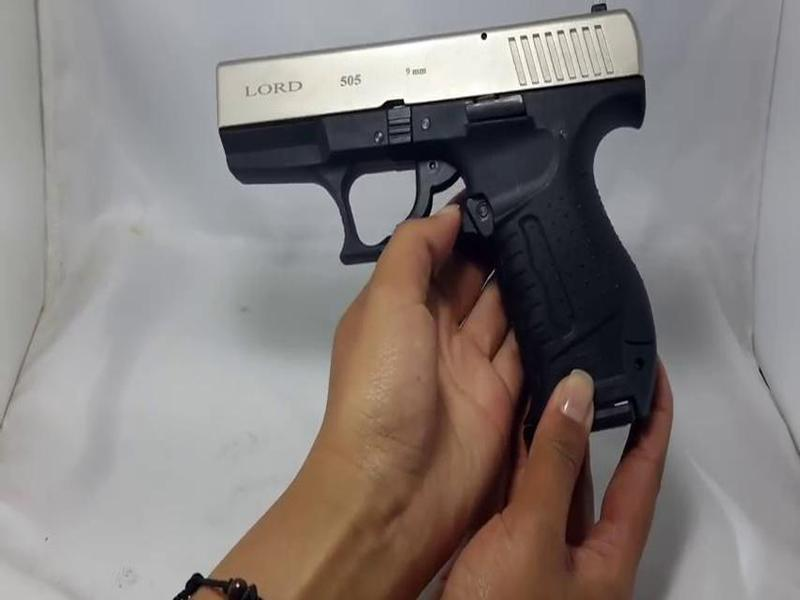Pistola: (181, 16, 669, 429)
